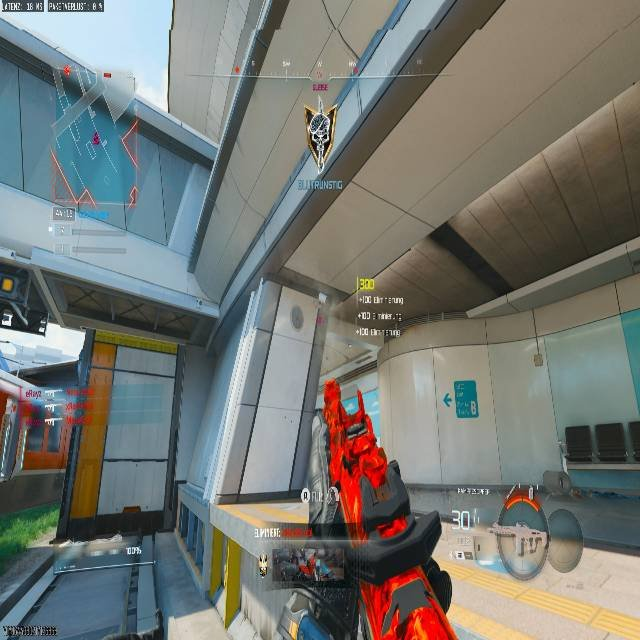player: (304, 105, 333, 167)
